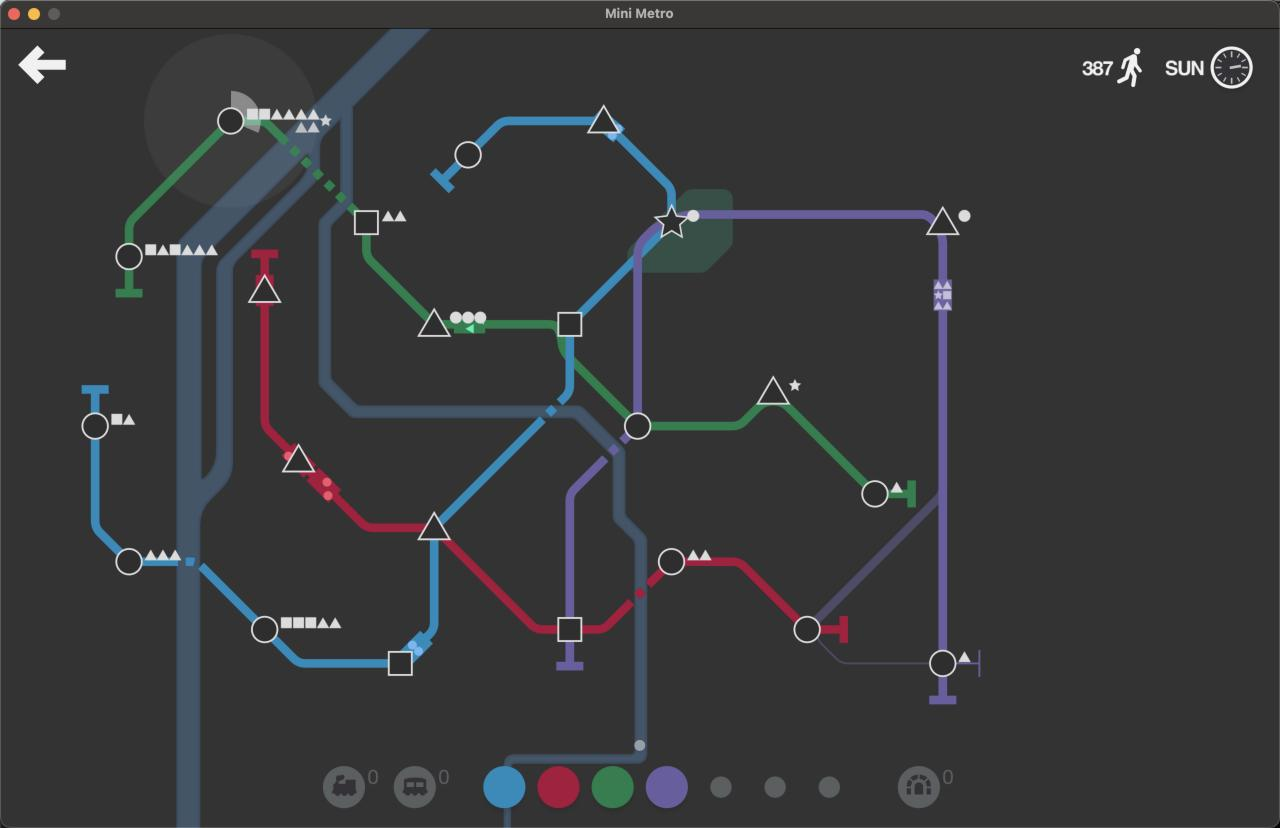CIRCLE: (216, 106, 245, 136), (928, 649, 957, 678), (793, 615, 822, 644), (250, 615, 279, 644), (657, 547, 686, 576), (623, 411, 652, 440), (861, 479, 889, 508), (115, 547, 143, 576), (81, 411, 109, 440), (454, 140, 482, 169), (115, 242, 143, 271)
SQUARE: (557, 615, 583, 643), (557, 310, 583, 337), (353, 209, 379, 236), (387, 649, 413, 676)
STAR: (652, 205, 694, 239)
TRIANGLE: (586, 103, 622, 136), (416, 510, 452, 542), (247, 273, 283, 305), (281, 442, 316, 474), (416, 307, 452, 338), (756, 375, 791, 406), (925, 206, 960, 237)
